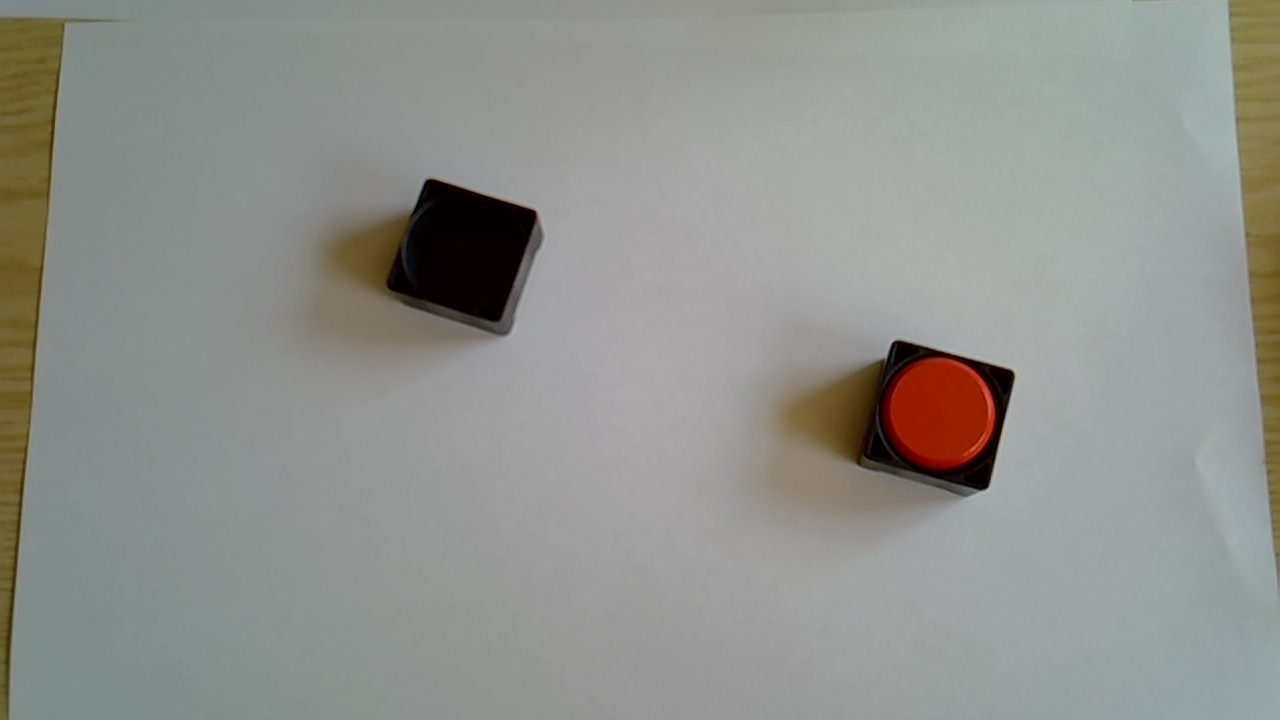Behaelter: (853, 337, 1018, 502), (386, 178, 546, 338)
WerkStueck: (880, 355, 995, 465)
